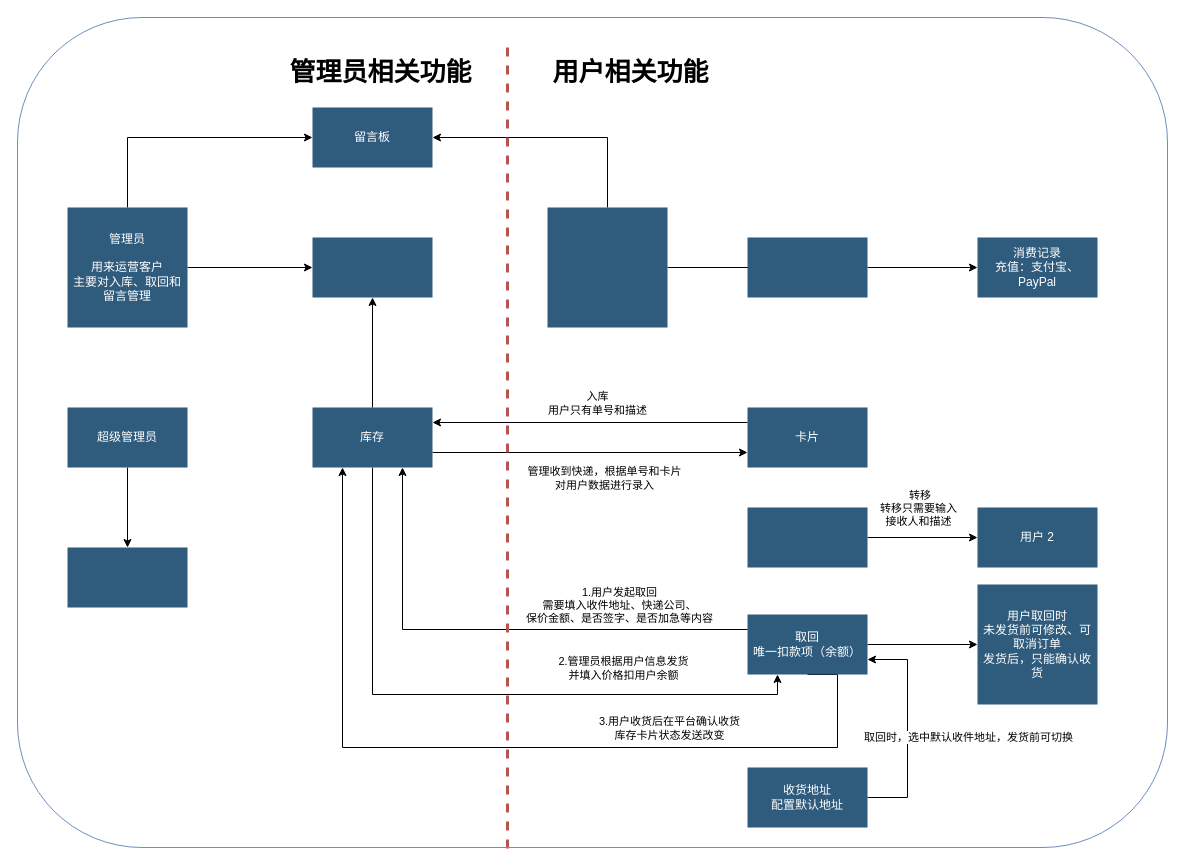
Image size: 1185x868. Some labels were removed from this diagram. Each missing label, with the box of its shape:
仓库 杭州101、1 架、1 层、1 位: (312, 237, 432, 297)
余额: (747, 237, 867, 297)
用户 将卡片入库对卡片管理、转移、取回、充值、留言等功能: (547, 207, 667, 327)
程序员用的 有所有权限 但是功能未限制 使用有风险: (67, 547, 187, 607)
转移: (747, 507, 867, 567)
